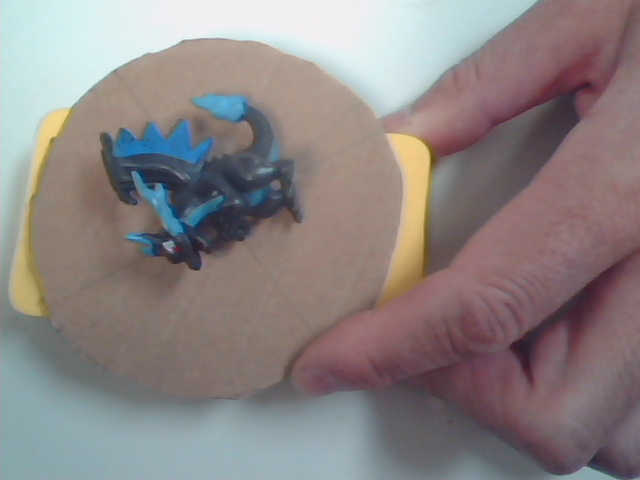charizard: (90, 76, 328, 304)
